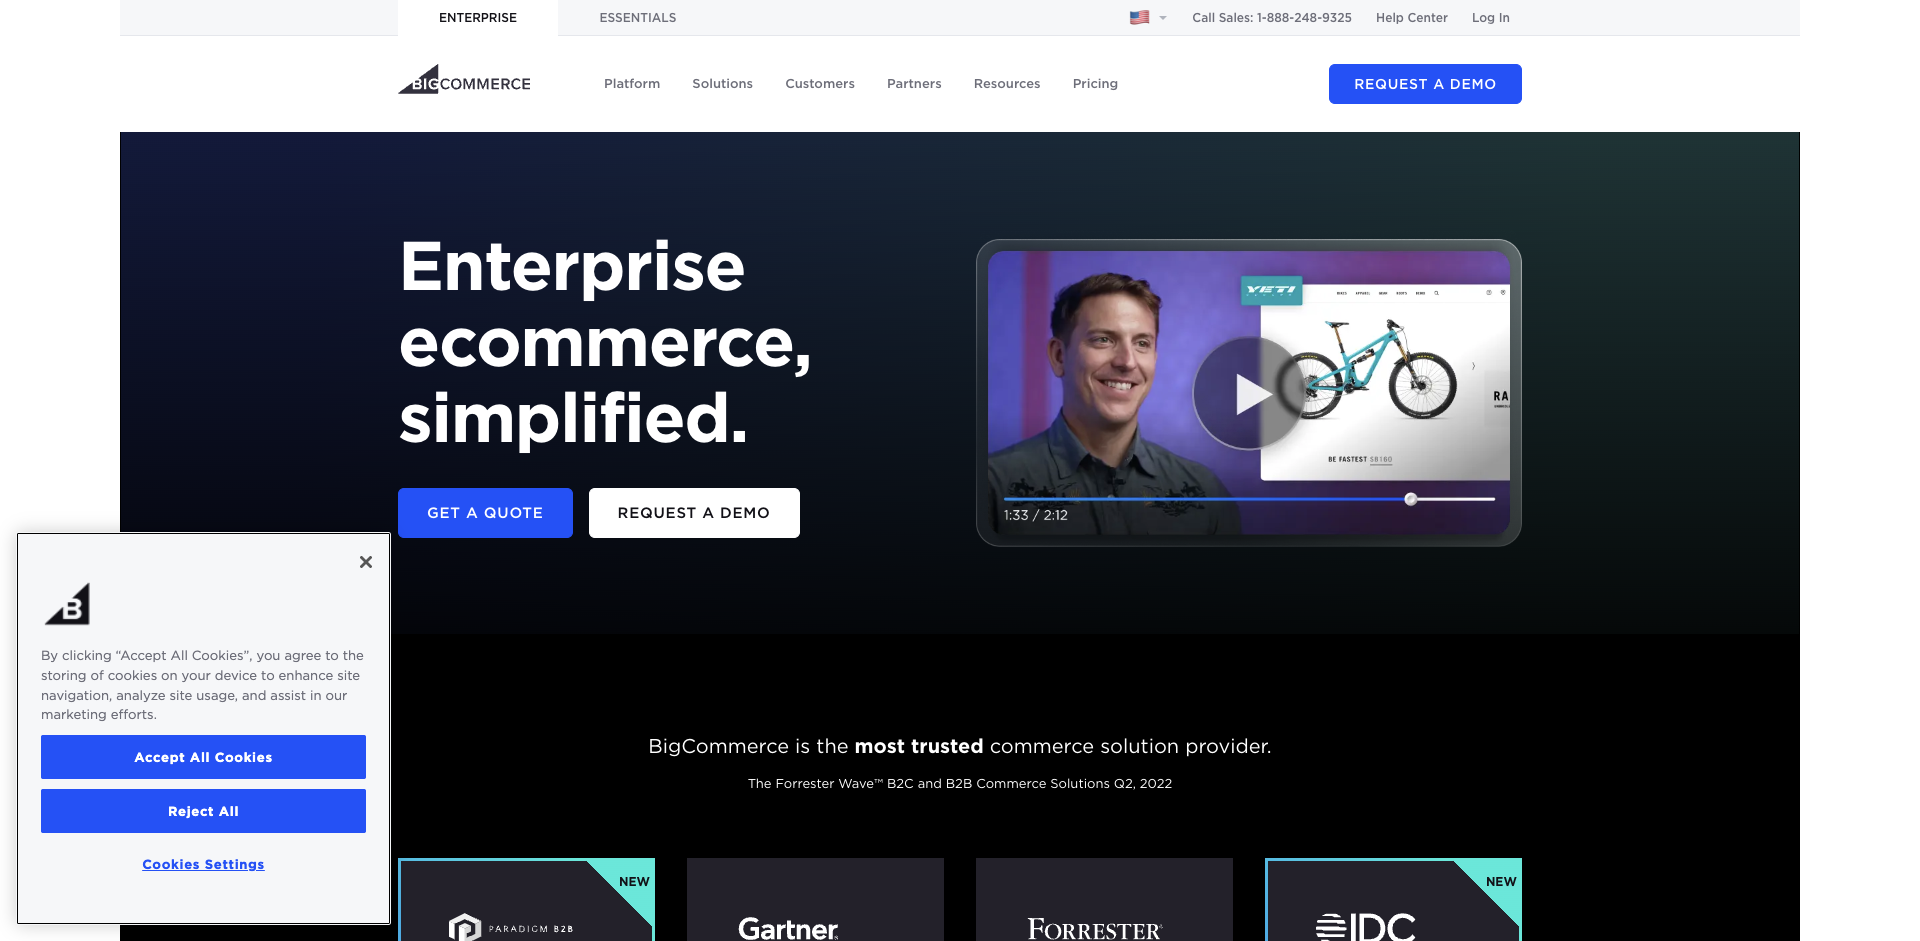button: (16, 532, 391, 925), (16, 735, 391, 925), (40, 735, 366, 779), (40, 789, 366, 833), (40, 843, 366, 886), (589, 488, 800, 538), (398, 488, 573, 538), (1329, 64, 1522, 104), (344, 540, 388, 584), (0, 0, 21, 18)
link: (769, 36, 871, 132), (958, 36, 1057, 132), (676, 36, 769, 132), (588, 36, 676, 132), (871, 36, 958, 132), (1057, 36, 1134, 132), (398, 64, 588, 94), (398, 0, 558, 36), (558, 0, 718, 36), (1193, 0, 1352, 36), (1376, 0, 1447, 36), (1472, 0, 1510, 36)
